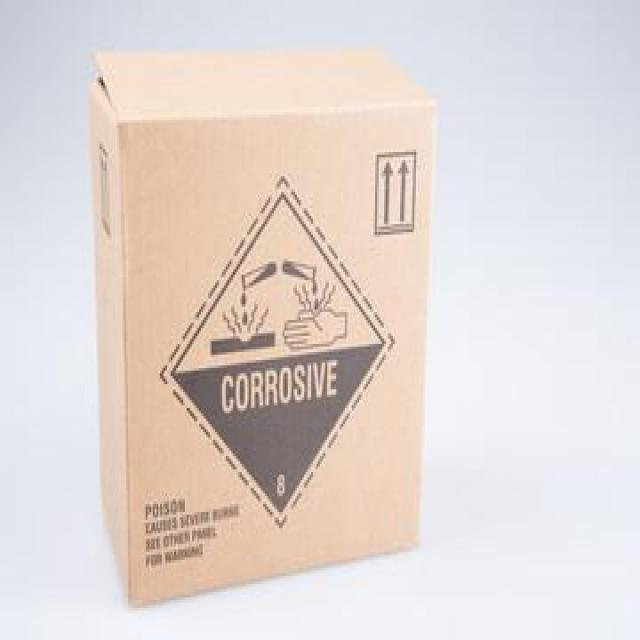box: (84, 43, 434, 613)
